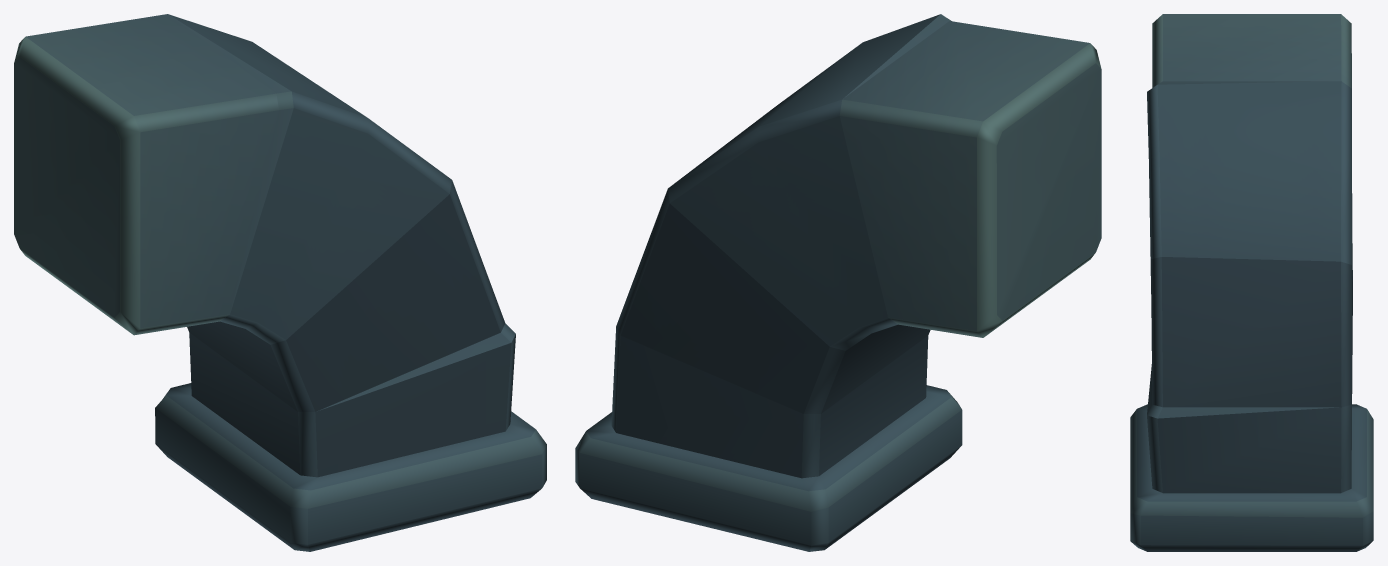
The model's file is pillar_medium_arch2.fbx.
3 views of the same model, side by side, from view 1: azimuth 30°, elevation 25°; view 2: azimuth 150°, elevation 25°; view 3: azimuth 270°, elevation 25° (orthographic). The views are drawn at different scales.
Visible parts, largest first — view 1: pillar_medium_arch2; view 2: pillar_medium_arch2; view 3: pillar_medium_arch2.
Boxes of the visible parts, box(x1,y1,x2,y2) form: pillar_medium_arch2: box(14, 14, 546, 551); pillar_medium_arch2: box(575, 14, 1101, 551); pillar_medium_arch2: box(1130, 14, 1373, 551).
Bounding box in the file's own units: 186 × 200 × 116.
